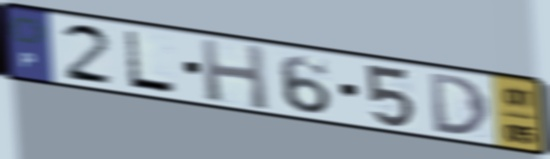2: (58, 22, 116, 88)
5: (363, 61, 419, 130)
6: (277, 52, 334, 116)
D: (426, 70, 493, 138)
H: (197, 36, 272, 114)
L: (122, 27, 181, 97)
